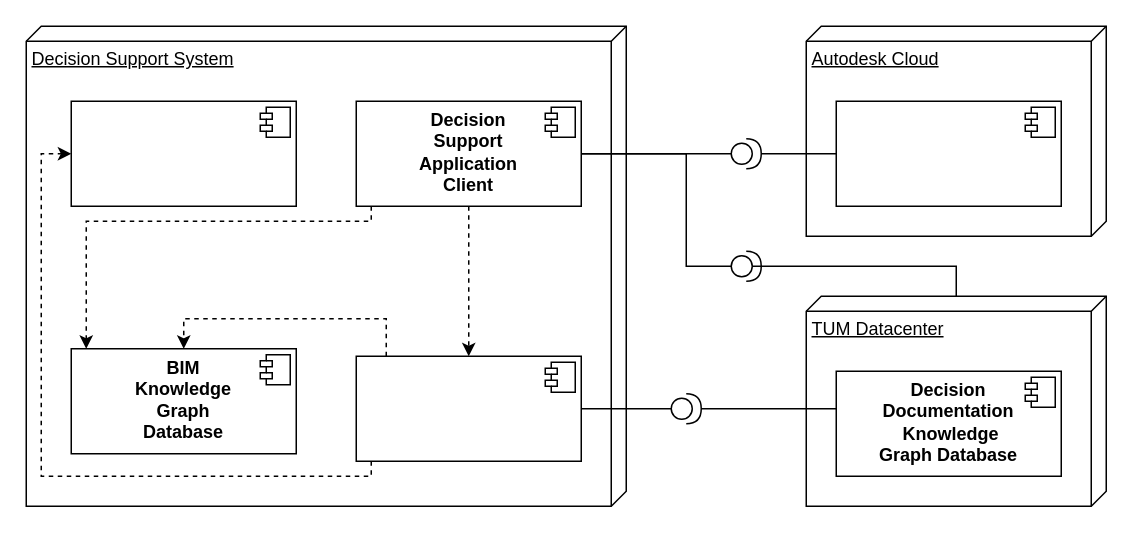
Some shapes in this 1133 by 533 pixel diagram are drawn without their labels. The centre of each missing label's shape, as x and y in pixels:
Autodesk Cloud Server: [948,153]
Decision Support Application Server: [468,408]
Masterdata Database: [183,153]
